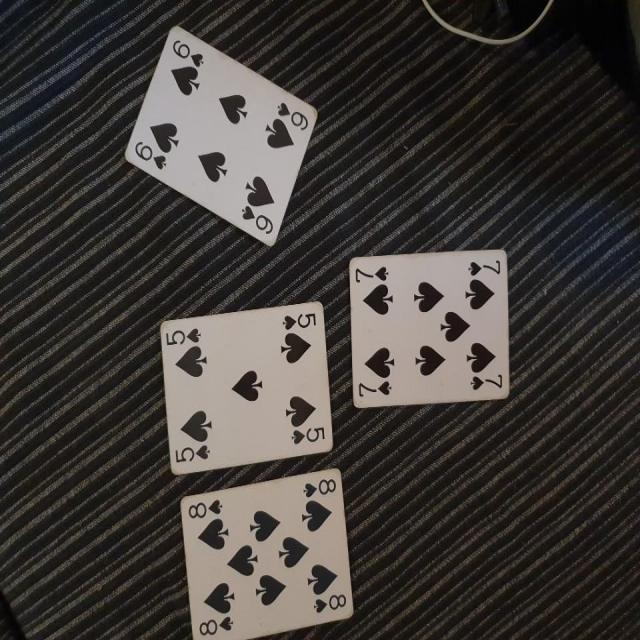5 Spades: (143, 296, 337, 476)
6 Spades: (119, 21, 322, 251)
7 Spades: (342, 239, 514, 417)
8 Spades: (174, 466, 366, 640)
